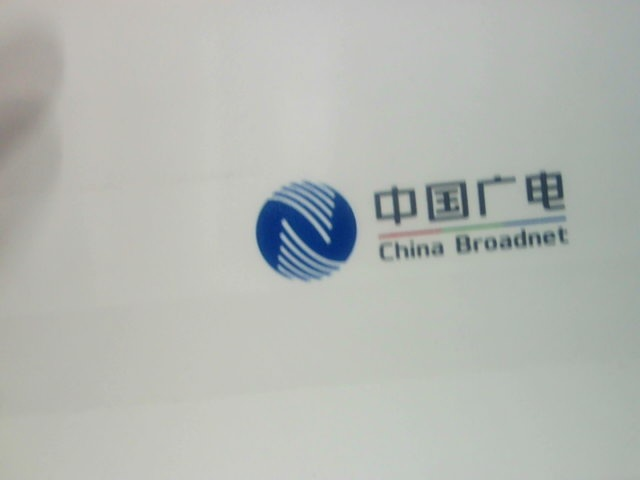AW_ChinaBroadNet: (243, 168, 580, 284)
